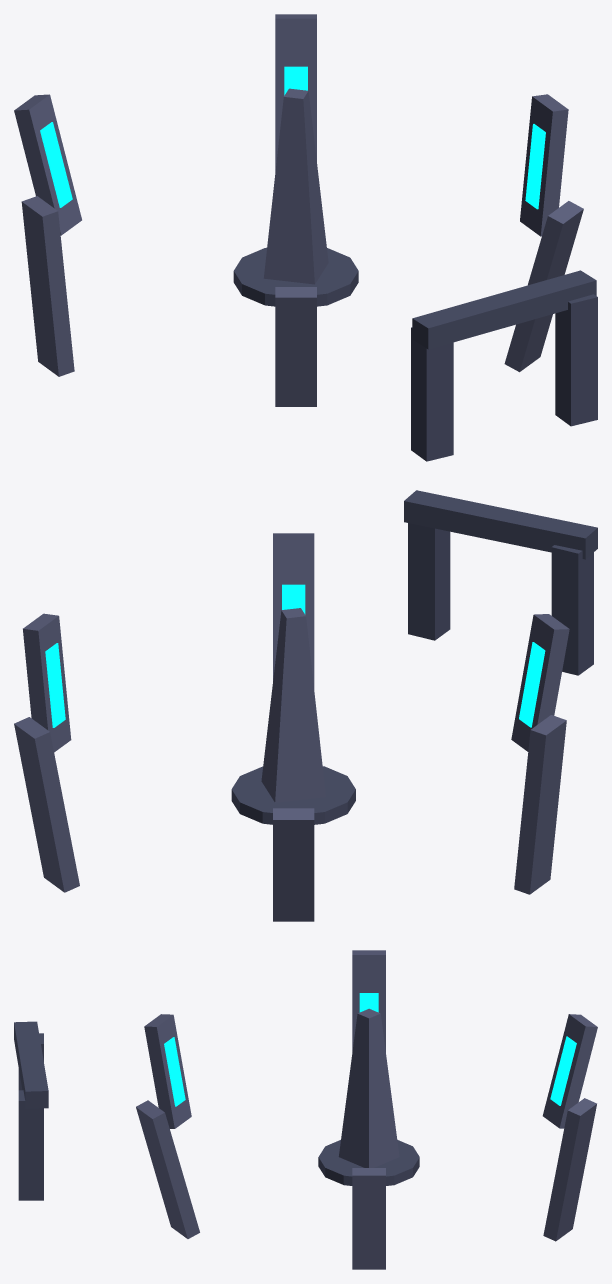
File: ruins.glb
The picture shows the model from 3 angles, top to bottom: view 1: azimuth 30°, elevation 25°; view 2: azimuth 150°, elevation 25°; view 3: azimuth 270°, elevation 25°; orthographic projection. The views are drawn at different scales.
Parts seen in each view (by area): view 1: ruin_obelisk, ruin_arch_lintel, ruin_slab_4, ruin_arch_post_r, ruin_slab_5, ruin_arch_post_l, ruin_slab_6, ruin_slab_1, ruin_slab_3, ruin_obelisk_ring, ruin_slab_2, ruin_rune_3 (+2 smaller); view 2: ruin_obelisk, ruin_arch_lintel, ruin_slab_4, ruin_slab_2, ruin_slab_3, ruin_arch_post_r, ruin_arch_post_l, ruin_obelisk_ring, ruin_slab_1, ruin_slab_5, ruin_slab_6, ruin_rune_5 (+2 smaller); view 3: ruin_obelisk, ruin_slab_2, ruin_slab_6, ruin_slab_1, ruin_slab_5, ruin_slab_3, ruin_arch_post_r, ruin_arch_lintel, ruin_obelisk_ring, ruin_slab_4, ruin_rune_3, ruin_rune_5.
Boxes of the visible parts, <box> form: ruin_obelisk: <box>263,88,328,284</box>; ruin_arch_lintel: <box>412,270,596,349</box>; ruin_slab_4: <box>21,196,74,376</box>; ruin_arch_post_r: <box>555,294,597,426</box>; ruin_slab_5: <box>275,287,316,406</box>; ruin_arch_post_l: <box>411,327,453,461</box>; ruin_slab_6: <box>504,201,583,372</box>; ruin_slab_1: <box>520,94,568,236</box>; ruin_slab_3: <box>14,94,81,235</box>; ruin_obelisk_ring: <box>233,247,358,306</box>; ruin_slab_2: <box>275,14,316,171</box>; ruin_rune_3: <box>40,122,72,207</box>; ruin_obelisk: <box>261,608,325,802</box>; ruin_arch_lintel: <box>404,490,597,559</box>; ruin_slab_4: <box>514,715,566,894</box>; ruin_slab_2: <box>14,717,79,892</box>; ruin_slab_3: <box>273,808,314,921</box>; ruin_arch_post_r: <box>408,523,450,640</box>; ruin_arch_post_l: <box>551,545,593,675</box>; ruin_obelisk_ring: <box>231,766,355,824</box>; ruin_slab_1: <box>23,613,71,752</box>; ruin_slab_5: <box>511,614,569,751</box>; ruin_slab_6: <box>273,533,314,688</box>; ruin_rune_5: <box>519,642,545,727</box>; ruin_obelisk: <box>338,1008,399,1167</box>; ruin_slab_2: <box>543,1098,596,1241</box>; ruin_slab_6: <box>136,1100,199,1238</box>; ruin_slab_1: <box>352,1168,385,1269</box>; ruin_slab_5: <box>144,1014,191,1128</box>; ruin_slab_3: <box>542,1014,597,1128</box>; ruin_arch_post_r: <box>18,1090,43,1200</box>; ruin_arch_lintel: <box>14,1021,48,1108</box>; ruin_obelisk_ring: <box>318,1140,419,1185</box>; ruin_slab_4: <box>352,950,385,1051</box>; ruin_rune_3: <box>550,1036,576,1105</box>; ruin_rune_5: <box>164,1037,185,1106</box>.
Size of the model in its own units: 23.33 by 9.12 by 27.66.
